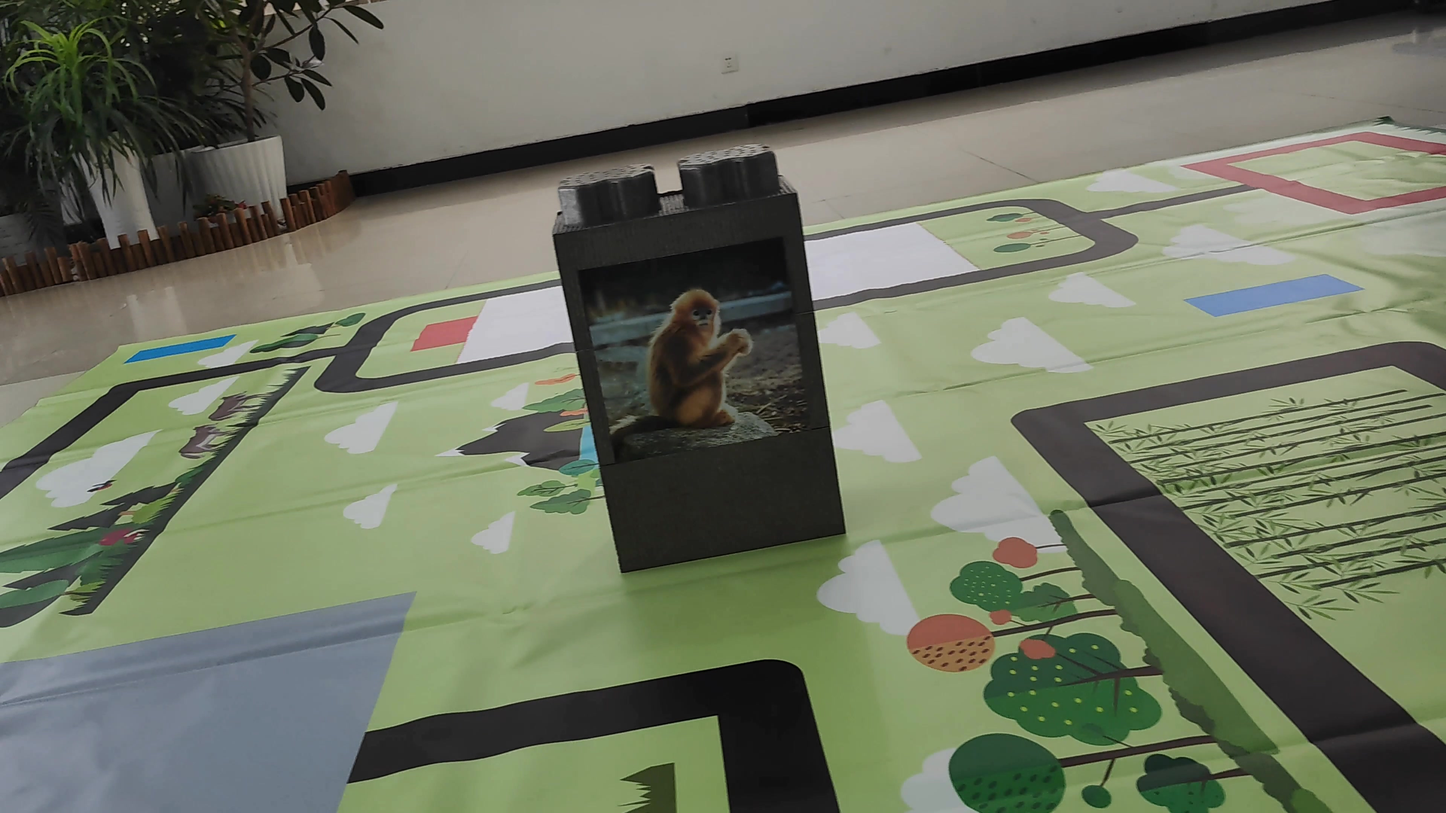monkey: (612, 284, 772, 449)
